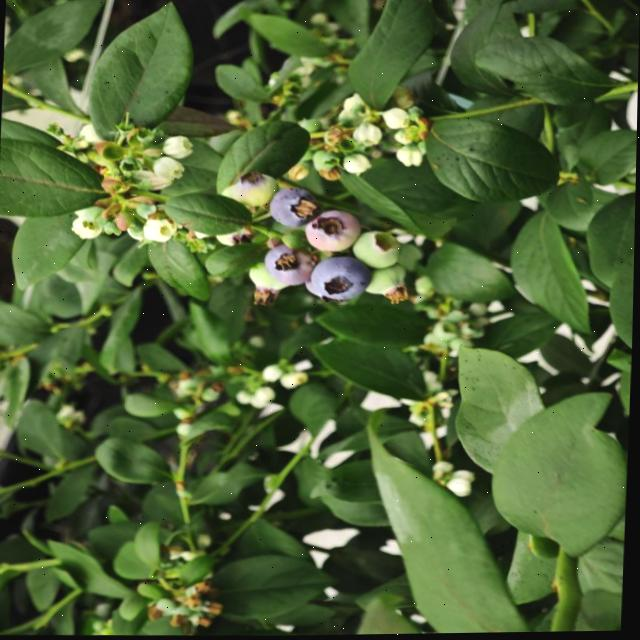RipeBlueBerry: (311, 257, 371, 302), (271, 186, 322, 227)
Semi-RipeBlueBerry: (306, 208, 361, 251), (266, 245, 315, 285)
UnripeBlueBerry: (352, 230, 402, 269), (366, 265, 411, 296)
